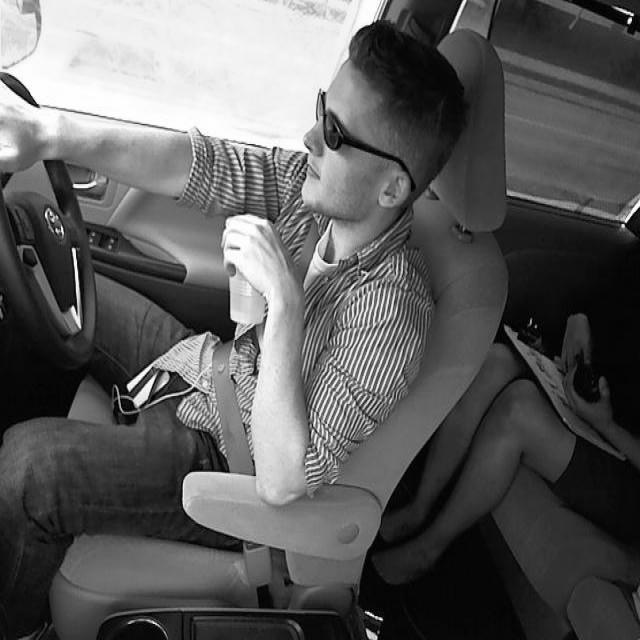drinking: (222, 216, 275, 328)
